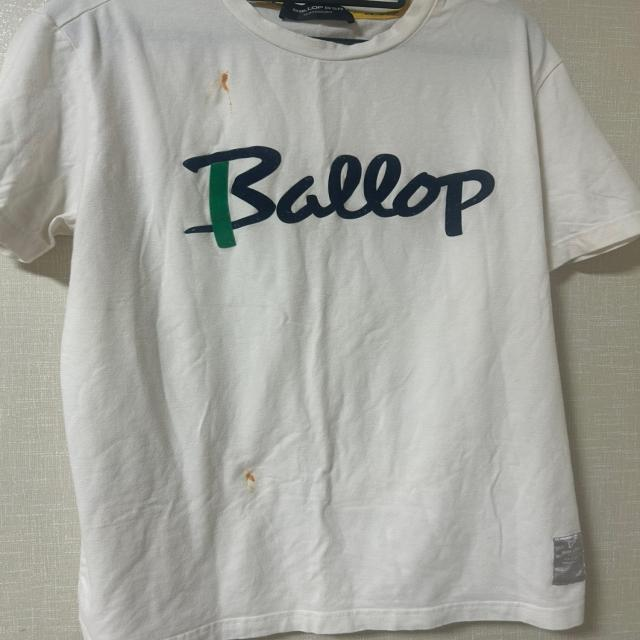stain: (214, 66, 246, 101), (235, 464, 270, 489)
